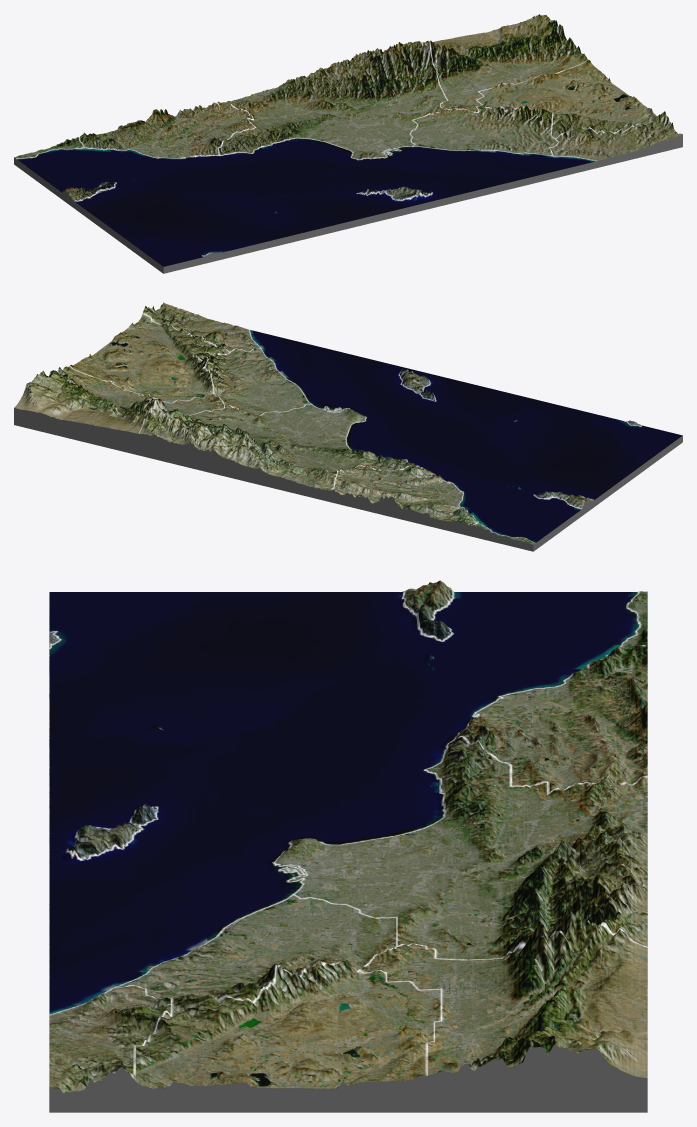
File: america.glb
3 views of the same model, one above another, from view 1: azimuth 30°, elevation 25°; view 2: azimuth 150°, elevation 25°; view 3: azimuth 270°, elevation 25° (orthographic). The views are drawn at different scales.
Parts seen in each view (by area): view 1: test_n; view 2: test_n; view 3: test_n.
Part boxes in pixels (left/top/right/bottom): test_n: left=14, top=14, right=682, bottom=273; test_n: left=14, top=302, right=682, bottom=551; test_n: left=49, top=580, right=647, bottom=1112.
Bounding box in the file's own units: 3.47 × 0.259 × 1.73.
Materials: 2 (1 with a texture image).
